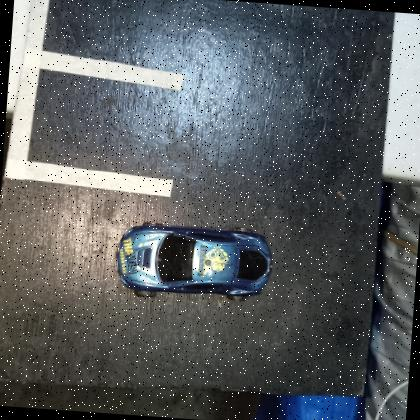Car: (117, 225, 273, 299)
